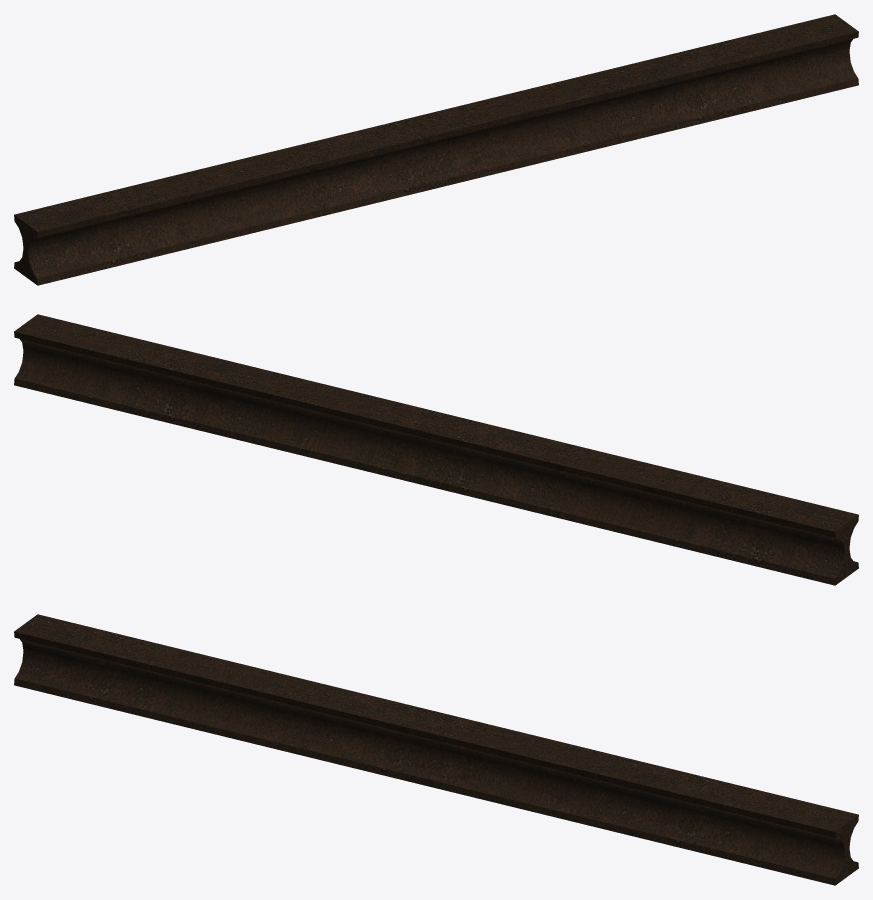
File: beam_5.glb
3 renders of one model, top to bottom at view 1: azimuth 30°, elevation 25°; view 2: azimuth 150°, elevation 25°; view 3: azimuth 330°, elevation 25°, orthographic.
Visible parts, largest first — view 1: beam_5; view 2: beam_5; view 3: beam_5.
Boxes of the visible parts, box(x1,y1,x2,y2) form: beam_5: box(14, 14, 858, 285); beam_5: box(14, 314, 858, 585); beam_5: box(14, 614, 858, 885).
Bounding box in the file's own units: 4 × 0.25 × 0.2.
Materials: 1 (1 with a texture image).
